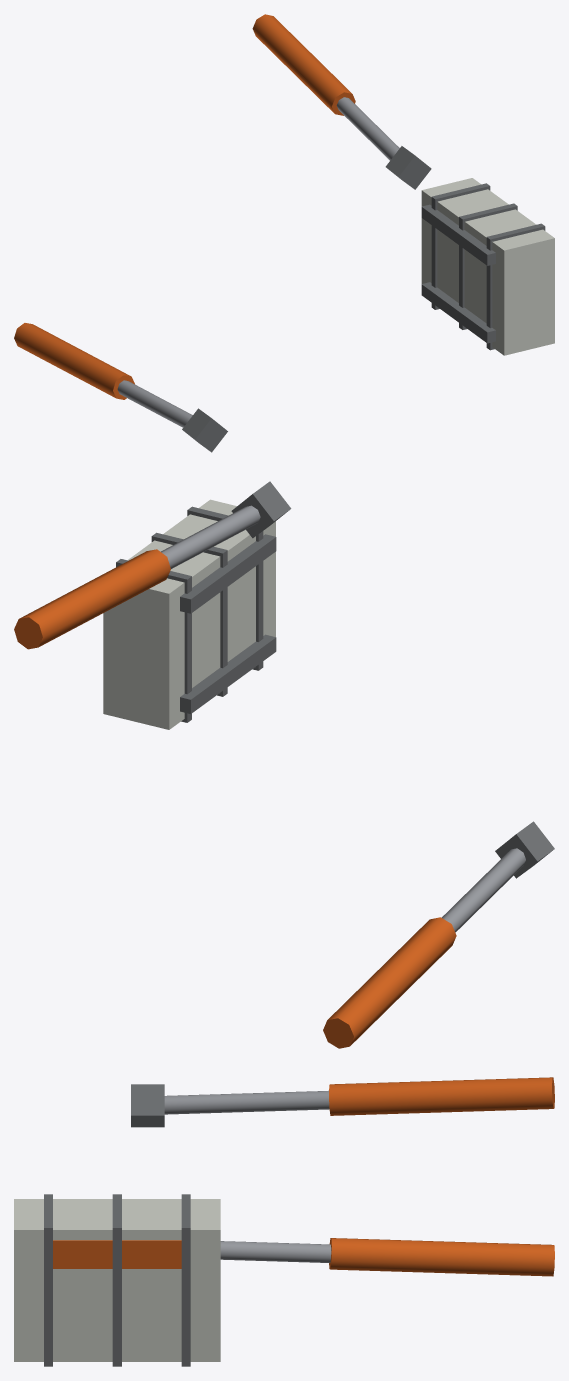
Rendered from u65m_field_ctl.obj.
The picture shows the model from 3 angles, top to bottom: view 1: azimuth 30°, elevation 25°; view 2: azimuth 150°, elevation 25°; view 3: azimuth 270°, elevation 25°; orthographic projection. The views are drawn at different scales.
Visible parts, largest first — view 1: u65m_field_ctl; view 2: u65m_field_ctl; view 3: u65m_field_ctl.
Part boxes in pixels (x1=…): u65m_field_ctl: x1=14, y1=14, x2=554, y2=452; u65m_field_ctl: x1=14, y1=481, x2=554, y2=1048; u65m_field_ctl: x1=14, y1=1077, x2=554, y2=1366.
Size of the model in its own units: 3.1 by 2.48 by 3.53.
